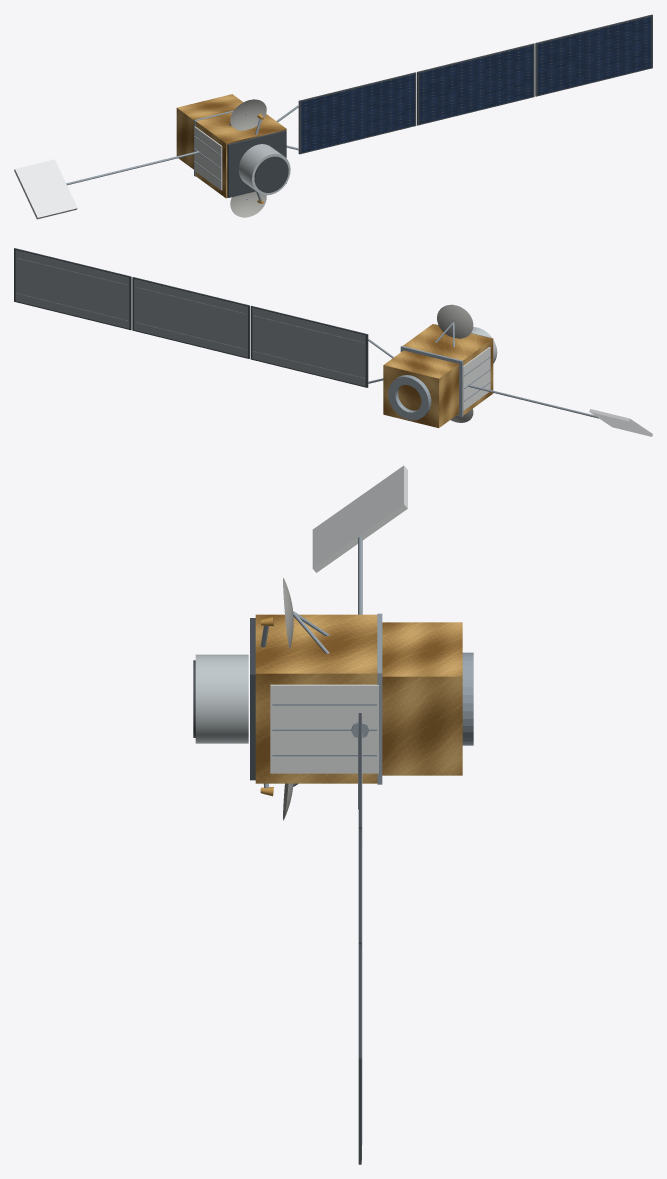
File: himawari-7.glb
3 renders of one model, top to bottom at view 1: azimuth 30°, elevation 25°; view 2: azimuth 150°, elevation 25°; view 3: azimuth 270°, elevation 25°, orthographic. The views are drawn at different scales.
Parts seen in each view (by area): view 1: Solar cell panel (×3), Solar pressure sail, Solar panel frame (×3), Payload module, Service module, Earth-facing deck, Communications reflector (×2), Radiator face, Optical instrument housing, Telescope aperture, Outboard boom; view 2: Rear array substrate (×3), Service module, Solar panel frame (×3), Payload module, Radiator face, Launch adapter ring, Communications reflector, Solar pressure sail, Module interface, Outboard boom; view 3: Service module, Payload module, Radiator face, Optical instrument housing, Solar pressure sail, Launch adapter ring, Earth-facing deck.
Boxes of the visible parts, box(x1,y1,x2,y2) form: Solar cell panel (×3): box(301, 16, 651, 152); Solar pressure sail: box(14, 159, 77, 219); Solar panel frame (×3): box(298, 14, 652, 154); Payload module: box(195, 112, 286, 198); Service module: box(176, 94, 243, 169); Earth-facing deck: box(227, 130, 286, 197); Communications reflector (×2): box(230, 99, 266, 217); Radiator face: box(194, 126, 222, 190); Optical instrument housing: box(238, 144, 290, 195); Telescope aperture: box(254, 156, 288, 192); Outboard boom: box(66, 151, 199, 185); Rear array substrate (×3): box(15, 250, 365, 386); Service module: box(383, 350, 458, 427); Solar panel frame (×3): box(14, 248, 368, 387); Payload module: box(403, 324, 493, 415); Radiator face: box(462, 347, 490, 410); Launch adapter ring: box(388, 375, 431, 420); Communications reflector: box(437, 304, 473, 338); Solar pressure sail: box(589, 409, 652, 436); Module interface: box(400, 346, 463, 417); Outboard boom: box(467, 384, 598, 418); Service module: box(382, 622, 462, 775); Payload module: box(255, 614, 377, 783); Radiator face: box(270, 684, 378, 773); Optical instrument housing: box(195, 654, 248, 743); Solar pressure sail: box(312, 465, 407, 572); Launch adapter ring: box(462, 652, 473, 745); Earth-facing deck: box(250, 618, 255, 780).
Size of the model in its own units: 41.48 by 7.4 by 8.04.
9 materials, 2 textured.
